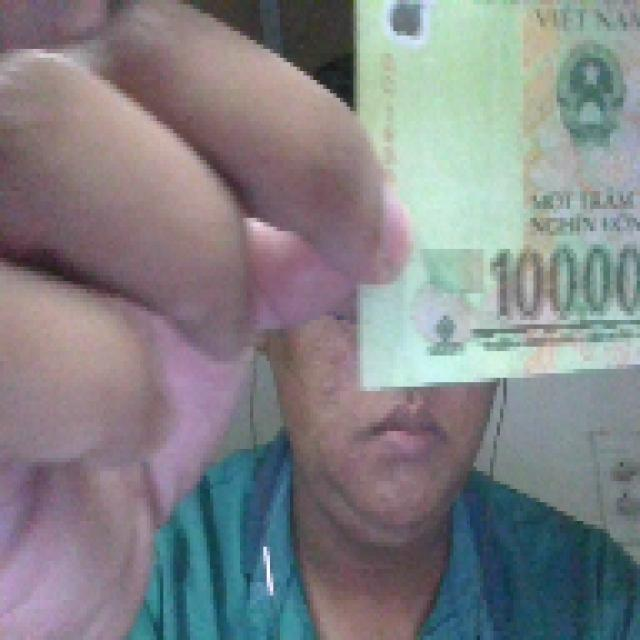100 000 VND: (346, 0, 636, 391)
